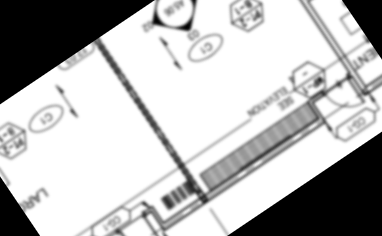door: (322, 76, 367, 120)
double door: (94, 213, 164, 236)
